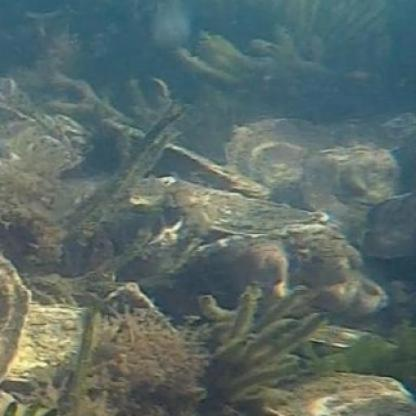Oyster- Indeterminate: (0, 255, 32, 385)
Oyster-Closed: (307, 143, 405, 243), (168, 183, 327, 237), (232, 122, 342, 191), (276, 373, 416, 416)
